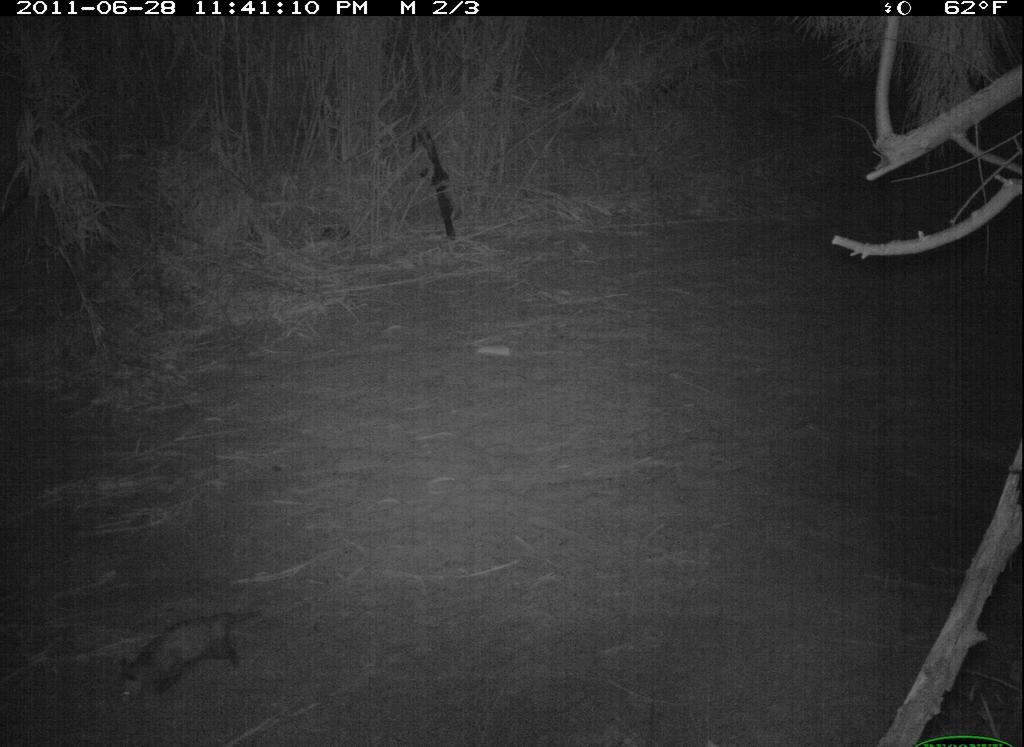opossum: (97, 589, 274, 726)
